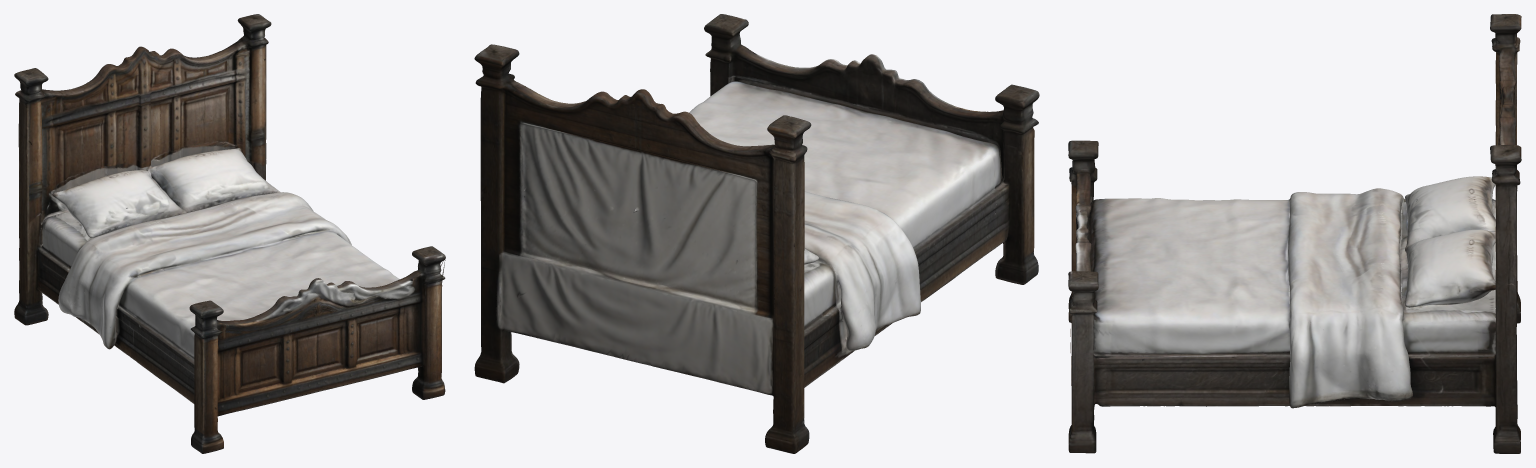
The model's file is cleaned-model.glb.
The picture shows the model from 3 angles, left to right: view 1: azimuth 30°, elevation 25°; view 2: azimuth 150°, elevation 25°; view 3: azimuth 270°, elevation 25°; orthographic projection. The views are drawn at different scales.
Parts seen in each view (by area): view 1: Mesh_0; view 2: Mesh_0; view 3: Mesh_0.
Part boxes in pixels (<box>): Mesh_0: <box>14,14,445,453</box>; Mesh_0: <box>474,14,1039,453</box>; Mesh_0: <box>1068,14,1521,453</box>.
Size of the model in its own units: 2.17 by 2 by 2.75.
1 material, 1 textured.
